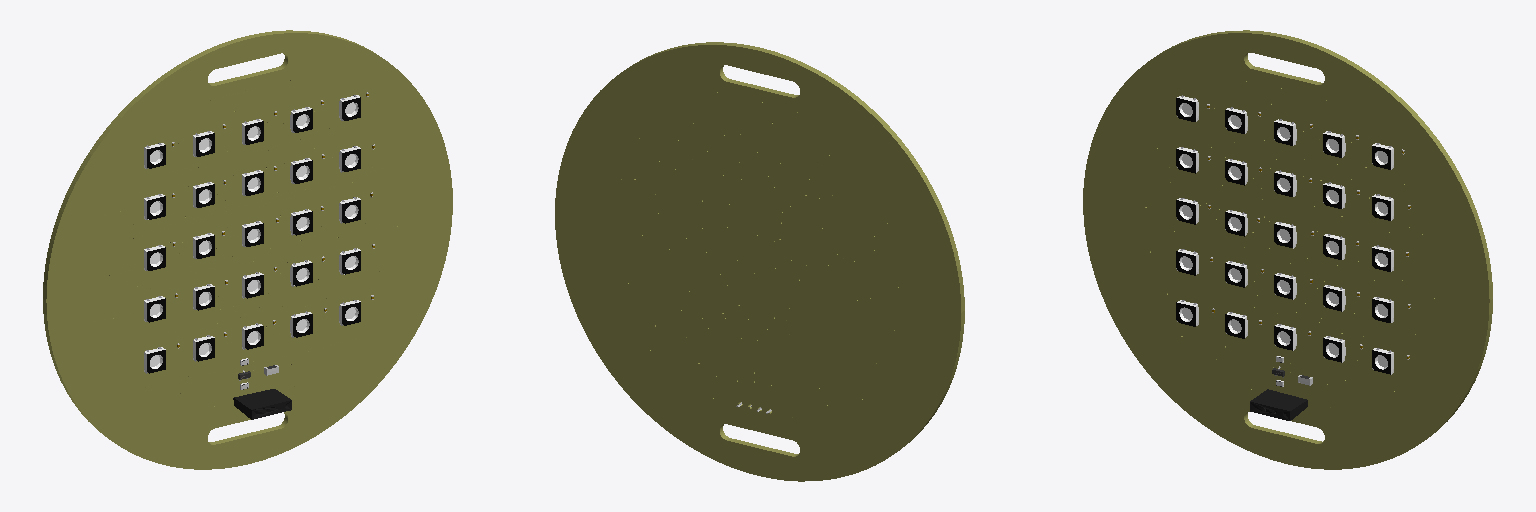
File: 3D_PCB1_2023-07-11.obj
The picture shows the model from 3 angles: view 1: azimuth 30°, elevation 25°; view 2: azimuth 150°, elevation 25°; view 3: azimuth 330°, elevation 25°; orthographic projection.
Size of the model in its own units: 106 by 106 by 11.68.